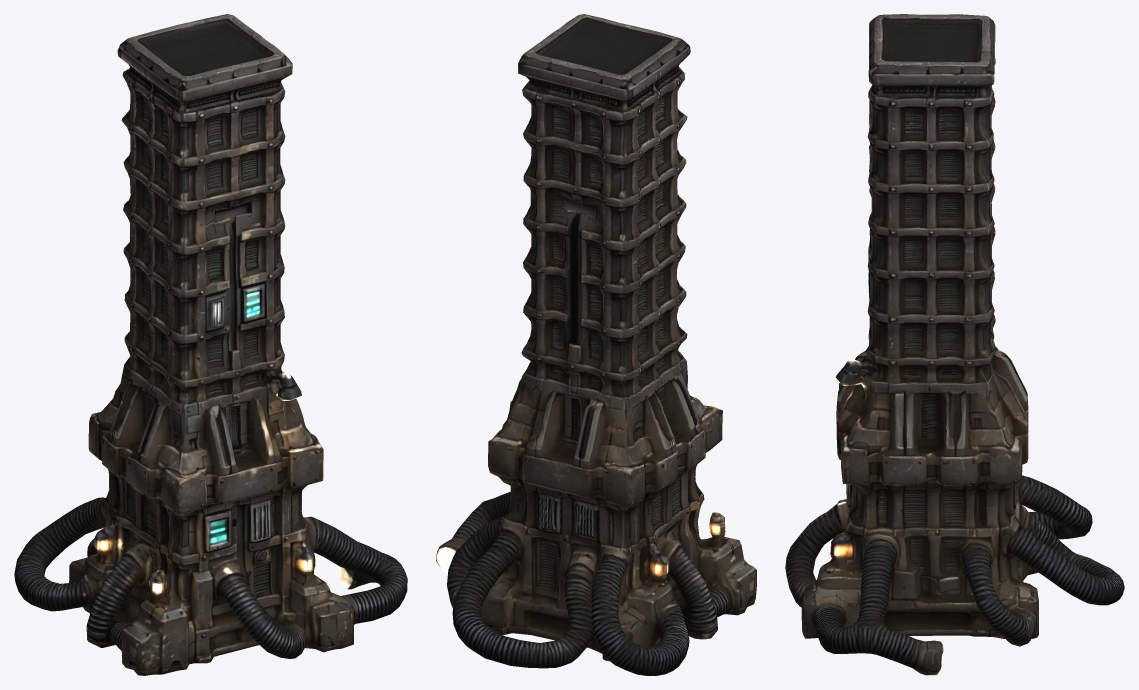
The model's file is tower_shaft.glb.
3 views of the same model, side by side, from view 1: azimuth 30°, elevation 25°; view 2: azimuth 150°, elevation 25°; view 3: azimuth 270°, elevation 25° (orthographic). The views are drawn at different scales.
Visible parts, largest first — view 1: tower_shaft; view 2: tower_shaft; view 3: tower_shaft.
Part boxes in pixels (<box>): tower_shaft: <box>14,14,407,675</box>; tower_shaft: <box>436,14,756,675</box>; tower_shaft: <box>785,14,1124,675</box>.
Size of the model in its own units: 6.2 by 11.49 by 6.28.
1 material, 1 textured.
